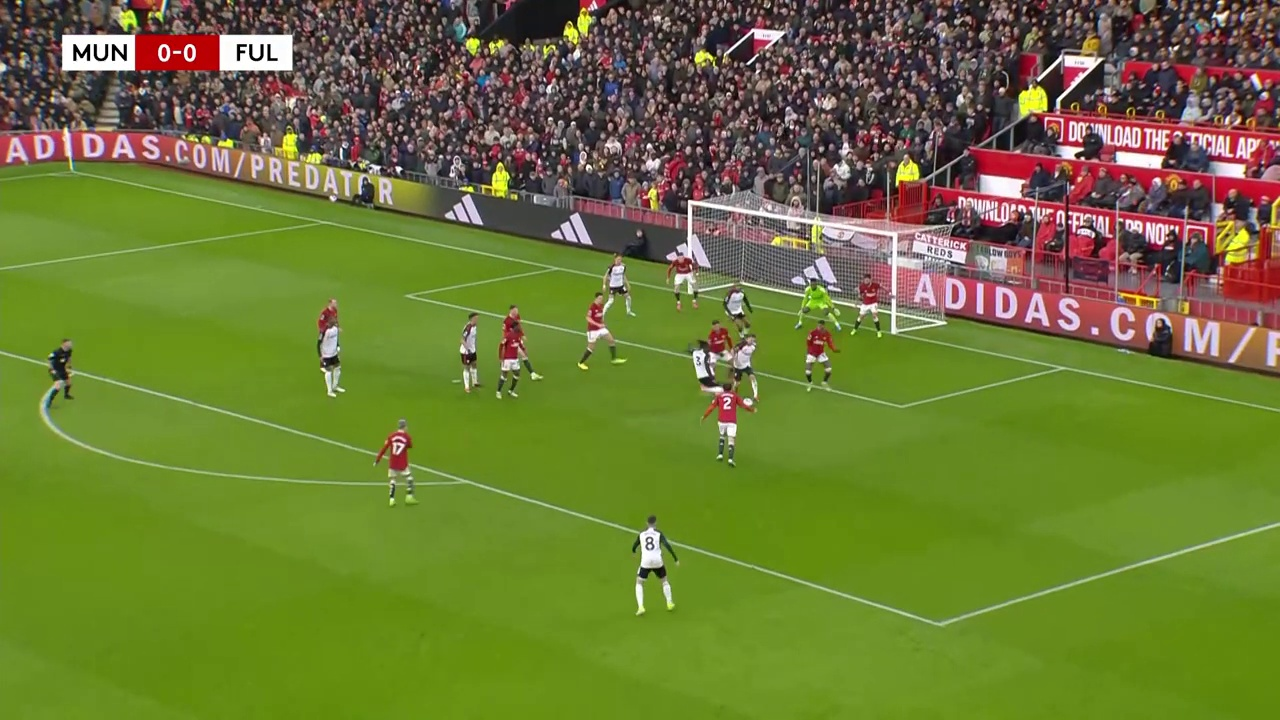ball: (349, 143, 375, 165)
